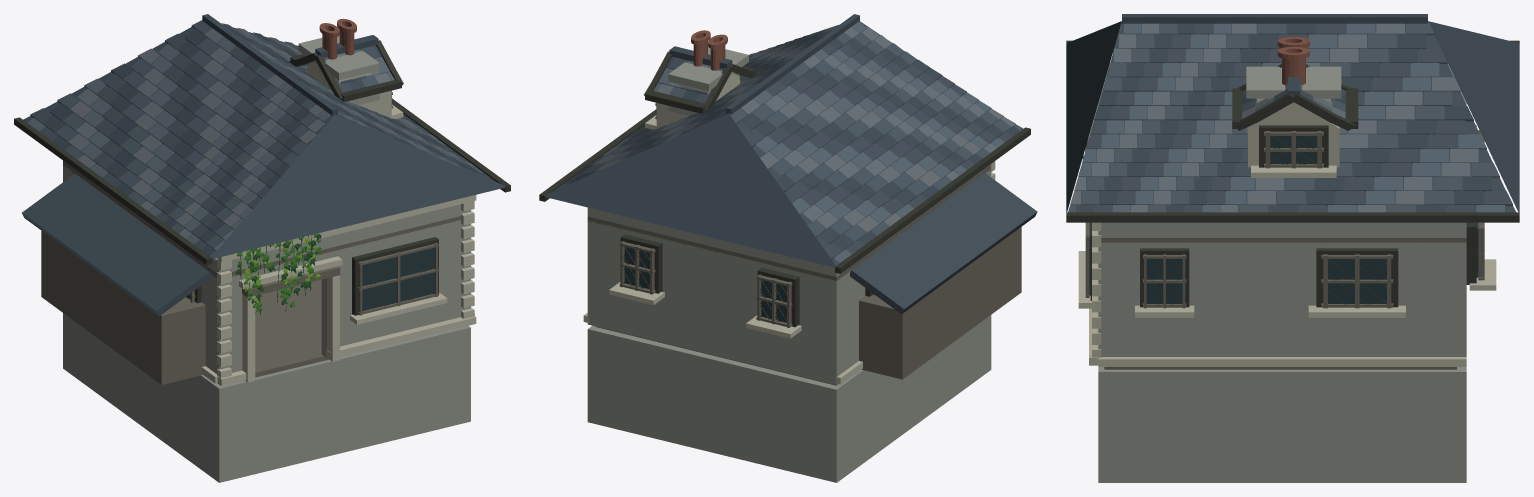
File: stone_workshop.glb
3 views of the same model, side by side, from view 1: azimuth 30°, elevation 25°; view 2: azimuth 150°, elevation 25°; view 3: azimuth 270°, elevation 25° (orthographic). The views are drawn at different scales.
Parts seen in each view (by area): view 1: stone_workshop; view 2: stone_workshop; view 3: stone_workshop.
Boxes of the visible parts, x1,y1,x2,y2 form: stone_workshop: (14,14,510,482); stone_workshop: (539,14,1037,482); stone_workshop: (1066,14,1519,482).
Bounding box in the file's own units: 10.58 × 10.54 × 10.6.
